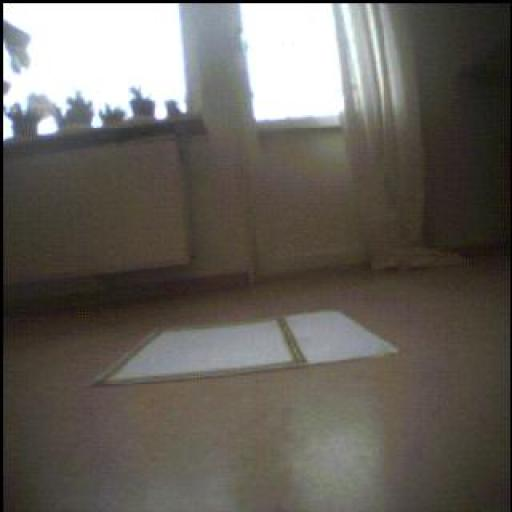Pad: (100, 311, 398, 385)
